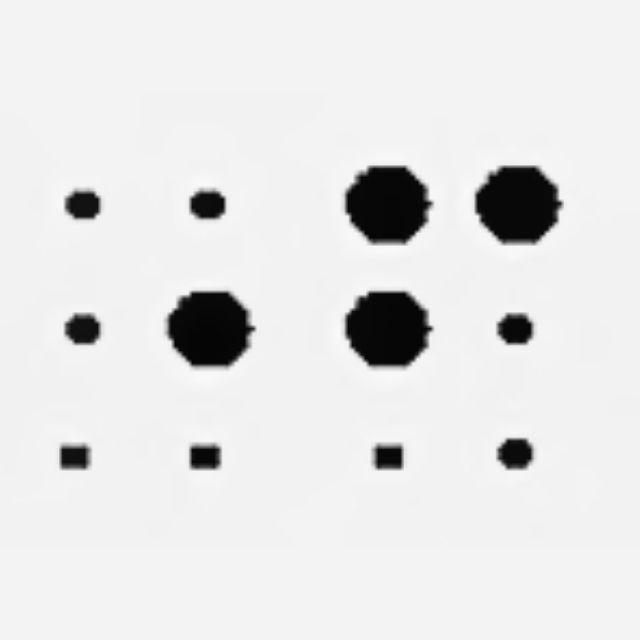dot_5: (39, 164, 254, 498)
papaano: (343, 168, 560, 497)
